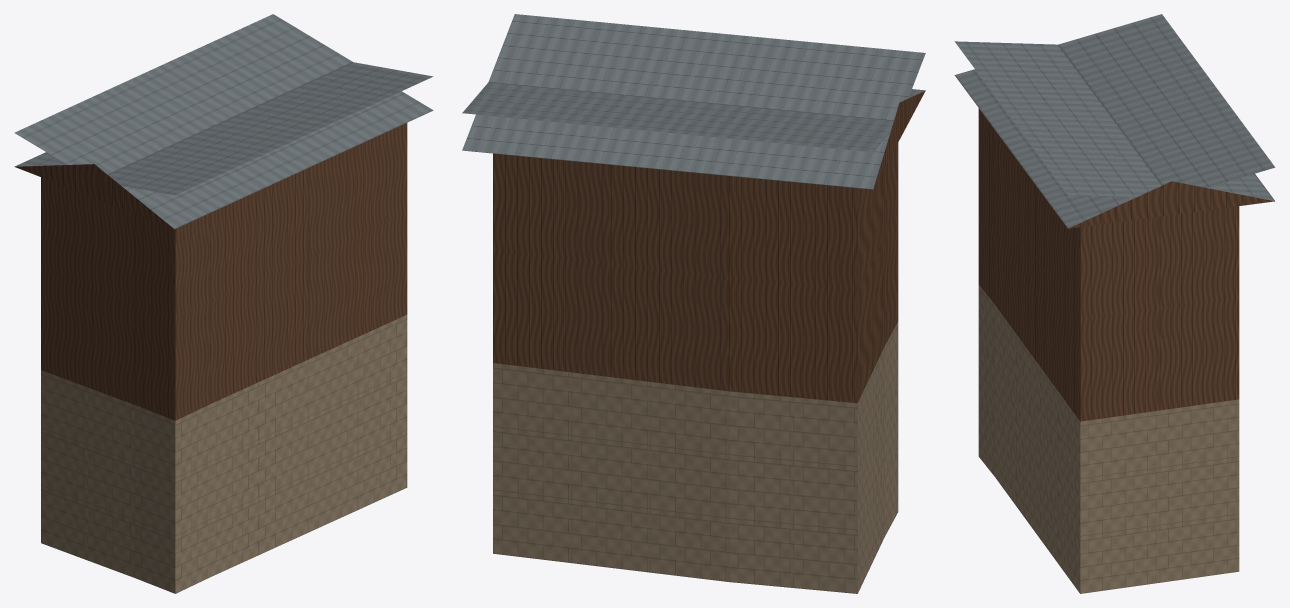
File: bld_c-10_41_527.gltf
3 renders of one model, left to right at view 1: azimuth 30°, elevation 25°; view 2: azimuth 150°, elevation 25°; view 3: azimuth 270°, elevation 25°, orthographic. The views are drawn at different scales.
Parts seen in each view (by area): view 1: bld_c-10_41_527; view 2: bld_c-10_41_527; view 3: bld_c-10_41_527.
Boxes of the visible parts, <box> form: bld_c-10_41_527: <box>14,14,433,593</box>; bld_c-10_41_527: <box>462,14,925,593</box>; bld_c-10_41_527: <box>954,14,1275,593</box>.
Size of the model in its own units: 11.49 by 12.1 by 8.61.
Materials: 4 (4 with a texture image).
